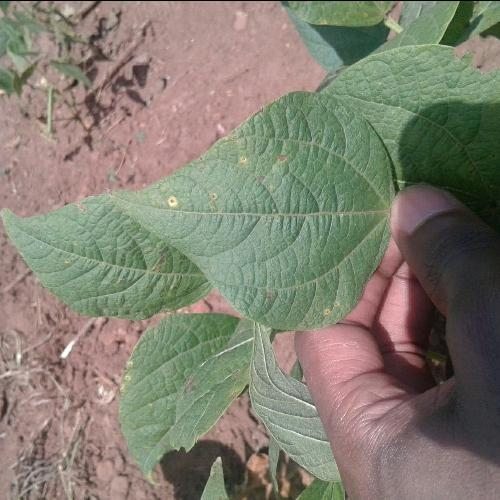hawar: (228, 121, 316, 188), (163, 186, 196, 214)
